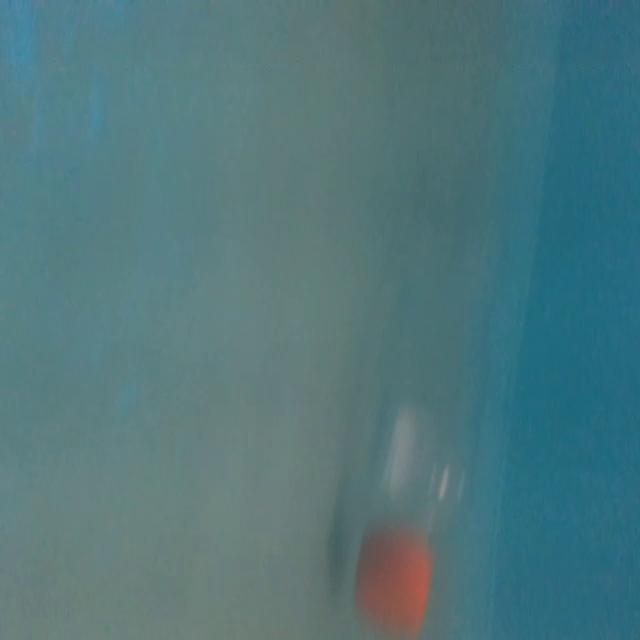plastic bottle: (346, 204, 494, 634)
